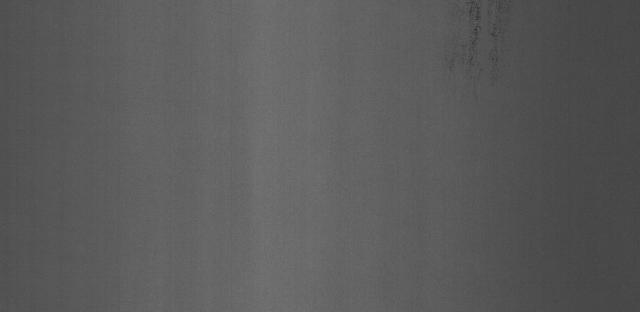inclusion: (435, 0, 528, 96)
